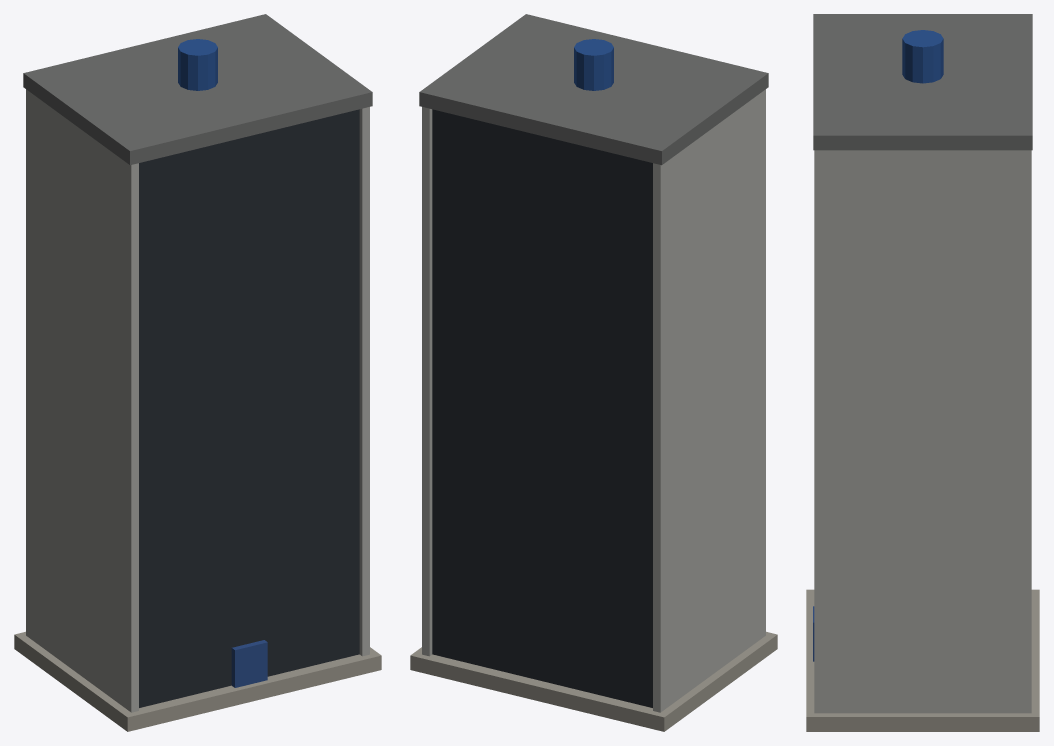
The model's file is bld_residential_a10_lod1.glb.
The picture shows the model from 3 angles, left to right: view 1: azimuth 30°, elevation 25°; view 2: azimuth 150°, elevation 25°; view 3: azimuth 270°, elevation 25°; orthographic projection. The views are drawn at different scales.
Parts seen in each view (by area): view 1: body; view 2: body; view 3: body.
Part boxes in pixels (x1,y1,x2,y2): body: (14,14,381,731); body: (410,14,777,731); body: (806,14,1039,731).
Size of the model in its own units: 6.6 by 15.2 by 5.1.
